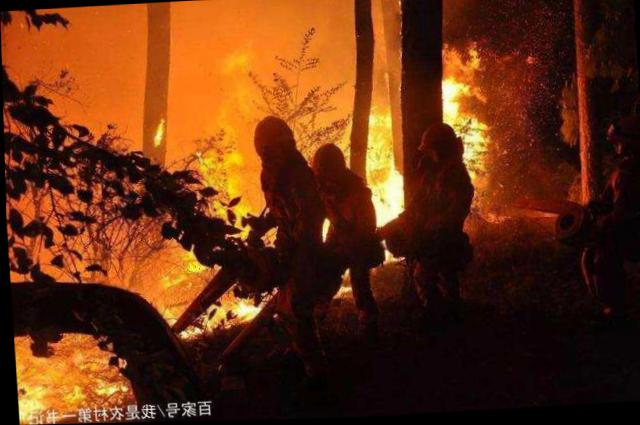fire: (141, 139, 265, 344), (13, 331, 116, 424), (437, 55, 491, 187), (363, 104, 411, 232)
